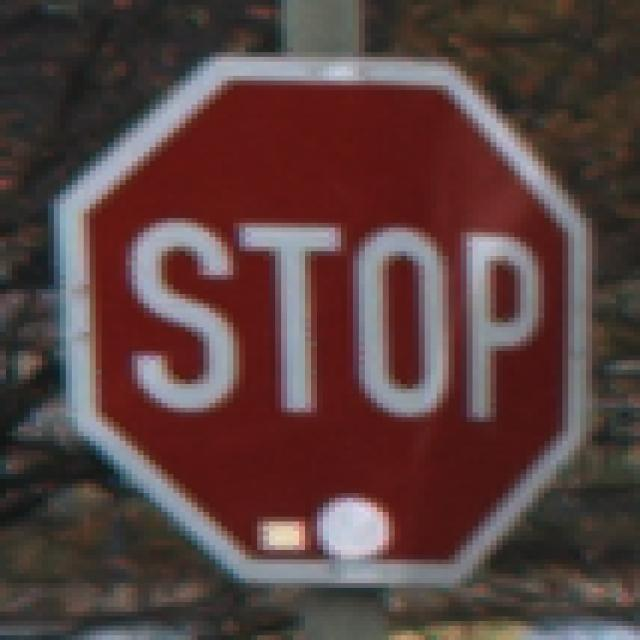stop: (58, 50, 594, 595)
